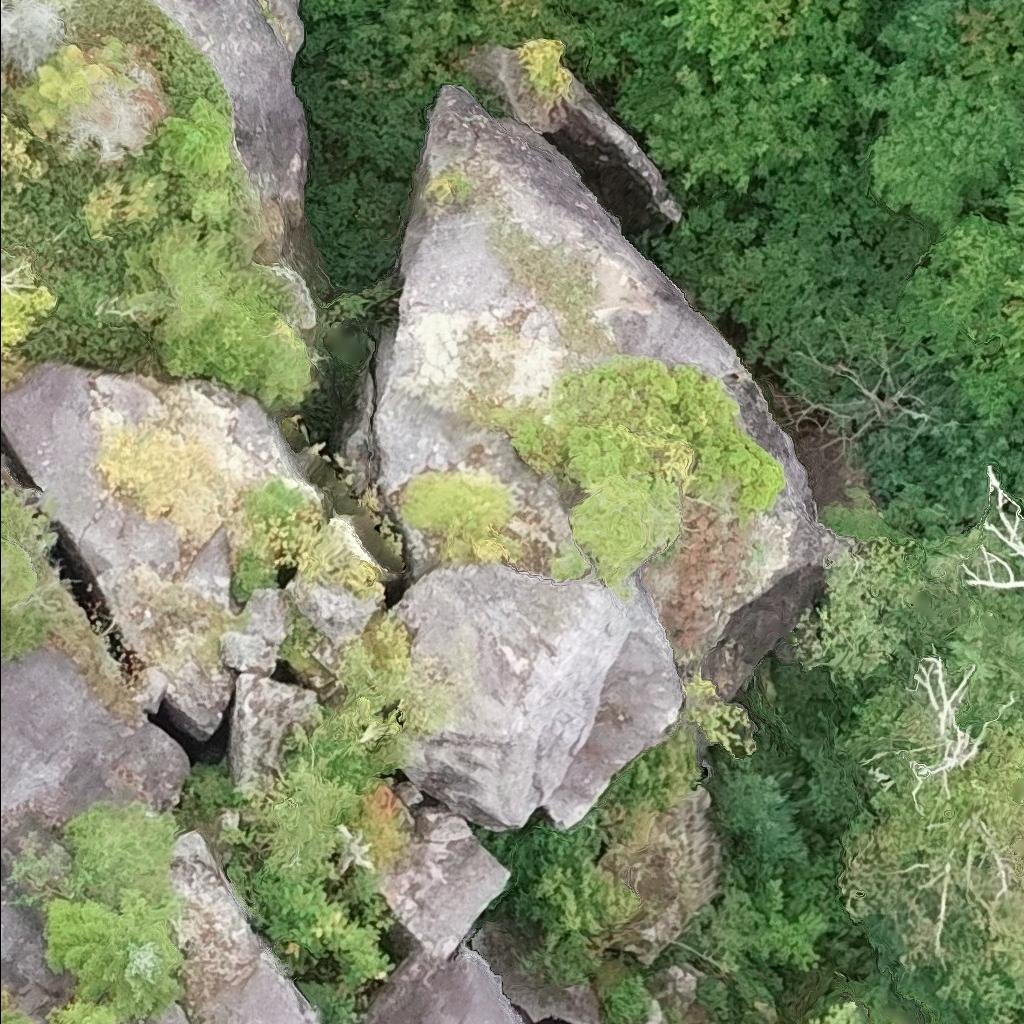crown: (903, 174, 1023, 391), (957, 468, 1023, 590)
